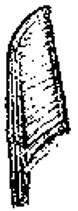Reed: (4, 5, 73, 204)
